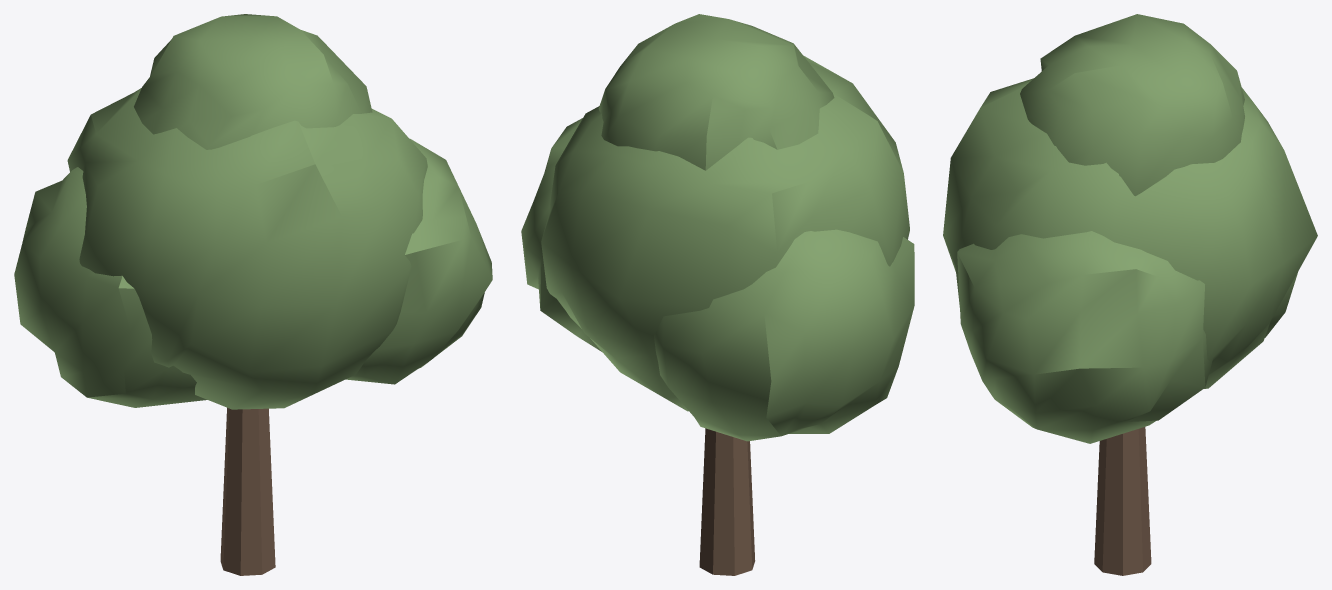
Rendered from arbol.fbx.
3 renders of one model, left to right at view 1: azimuth 30°, elevation 25°; view 2: azimuth 150°, elevation 25°; view 3: azimuth 270°, elevation 25°, orthographic.
Parts seen in each view (by area): view 1: copa, tronco; view 2: copa, tronco; view 3: copa, tronco.
Part boxes in pixels (left/top/right/bottom): copa: left=14, top=14, right=492, bottom=409; tronco: left=220, top=407, right=275, bottom=575; copa: left=521, top=14, right=914, bottom=441; tronco: left=699, top=428, right=755, bottom=575; copa: left=943, top=14, right=1317, bottom=443; tronco: left=1094, top=427, right=1151, bottom=575.
Bounding box in the file's own units: 3.33 × 4.25 × 2.73.
